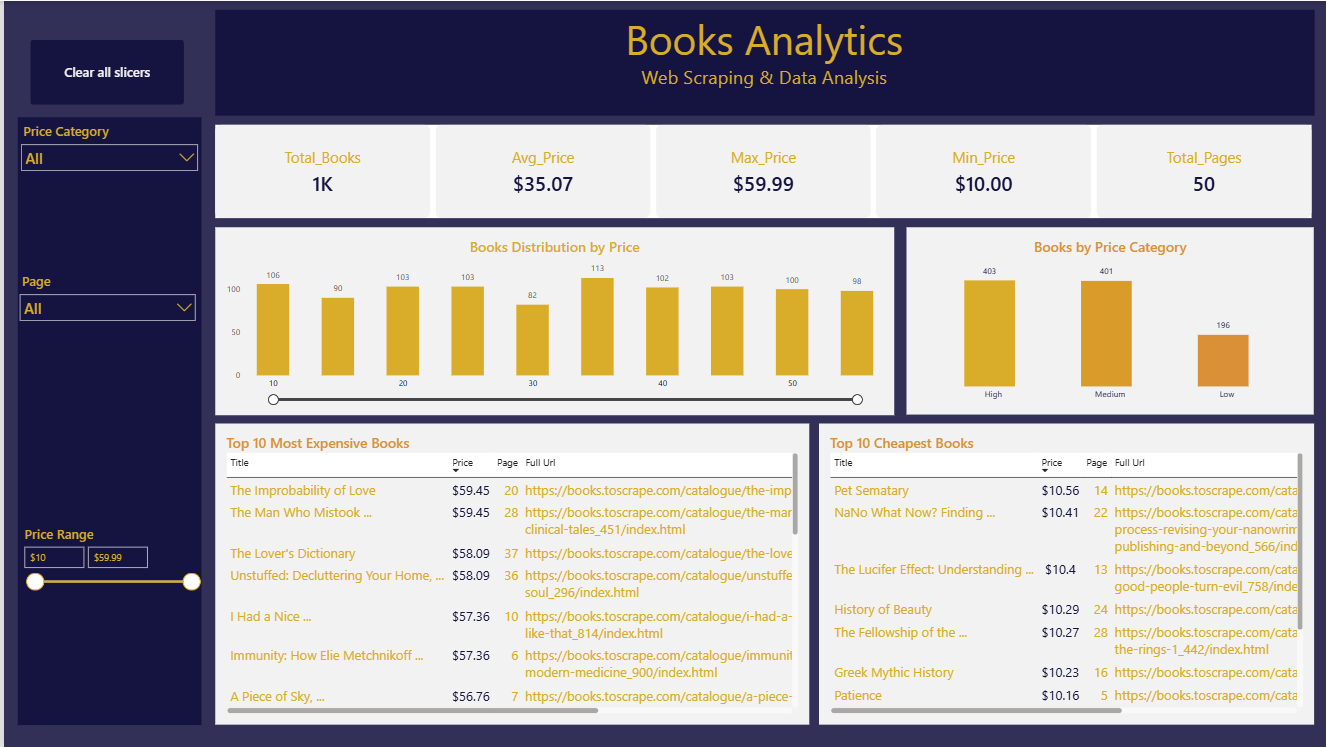

This screenshot's page, from the dashboard's own definition file:
{"tool":"powerbi","page":{"name":"Books_Analytics","canvas":[1920,1080],"ordinal":0},"visuals":[{"type":"cardVisual","fields":{"Data":["Measures_list.Total_Books","Measures_list.Avg_Price","Measures_list.Max_Price","Measures_list.MinPrice","Measures_list.Total_Pages"]},"box":[305,180,1591.7,135],"z":0},{"type":"clusteredColumnChart","title":"Books by Price Category","fields":{"Category":["All Pages.Price Category"],"Y":["CountNonNull(All Pages.Title)"]},"box":[1306.6,327.5,589.9,271.4],"z":1000},{"type":"tableEx","title":"Top 10 Most Expensive Books","fields":{"Values":["All Pages.Title","All Pages.Price","All Pages.Page","All Pages.Full Url"]},"box":[306,612,860,436],"z":2000},{"type":"shape","box":[305,13.3,1591.7,153.3],"z":3000},{"type":"textbox","box":[306,14,1590,154],"z":4000},{"type":"clusteredColumnChart","title":"Books Distribution by Price","fields":{"Category":["All Pages.Price (bins)"],"Y":["CountNonNull(All Pages.Title)"]},"box":[305.8,327.5,982.6,271.4],"z":5000},{"type":"shape","box":[20,168,266,880],"z":6000},{"type":"slicer","fields":{"Values":["All Pages.Page"]},"box":[18.1,392.7,264.2,146.6],"z":7000},{"type":"tableEx","title":"Top 10 Cheapest Books","fields":{"Values":["All Pages.Title","All Pages.Price","All Pages.Page","All Pages.Full Url"]},"box":[1179.9,611.7,716.6,436.1],"z":8000},{"type":"slicer","fields":{"Values":["All Pages.Price Category"]},"box":[19.9,175.5,266,144.8],"z":9000},{"type":"slicer","fields":{"Values":["All Pages.Price"]},"box":[21.7,758.2,266,144.8],"z":10000},{"type":"actionButton","box":[38,56.1,222.6,94.1],"z":10001}]}

Visuals, with their boxes in screenshot pixels (x1, y1, x2, y2), scaled from the page's 1920x1080 canvas onto the 1326x747 screenshot:
cardVisual - Measures_list.Total_Books x Measures_list.Avg_Price: bbox=[211, 124, 1310, 218]
"Books by Price Category" clusteredColumnChart: bbox=[902, 227, 1310, 414]
"Top 10 Most Expensive Books" tableEx: bbox=[211, 423, 805, 725]
shape: bbox=[211, 9, 1310, 115]
textbox: bbox=[211, 10, 1309, 116]
"Books Distribution by Price" clusteredColumnChart: bbox=[211, 227, 890, 414]
shape: bbox=[14, 116, 198, 725]
slicer - All Pages.Page: bbox=[13, 272, 195, 373]
"Top 10 Cheapest Books" tableEx: bbox=[815, 423, 1310, 725]
slicer - All Pages.Price Category: bbox=[14, 121, 197, 222]
slicer - All Pages.Price: bbox=[15, 524, 199, 625]
actionButton: bbox=[26, 39, 180, 104]
